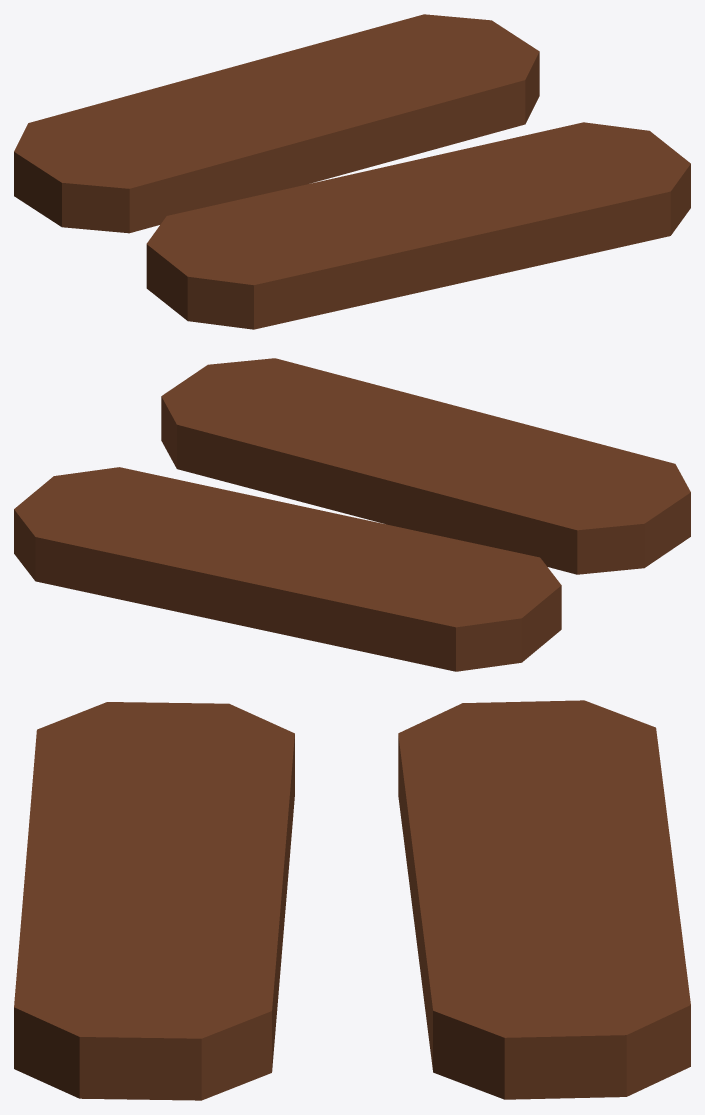
File: plank-2.fbx
The picture shows the model from 3 angles, top to bottom: view 1: azimuth 30°, elevation 25°; view 2: azimuth 150°, elevation 25°; view 3: azimuth 270°, elevation 25°; orthographic projection. The views are drawn at different scales.
Parts seen in each view (by area): view 1: plank-2; view 2: plank-2; view 3: plank-2.
Part boxes in pixels (<box>): plank-2: <box>14,14,690,329</box>; plank-2: <box>14,358,690,671</box>; plank-2: <box>14,700,690,1100</box>.
Size of the model in its own units: 82.08 by 7 by 69.41.
